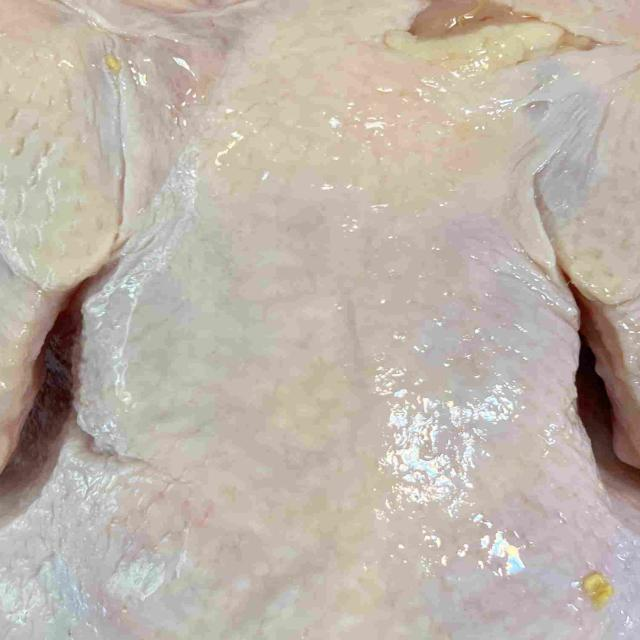back: (0, 17, 640, 640)
wing: (548, 4, 640, 478)
